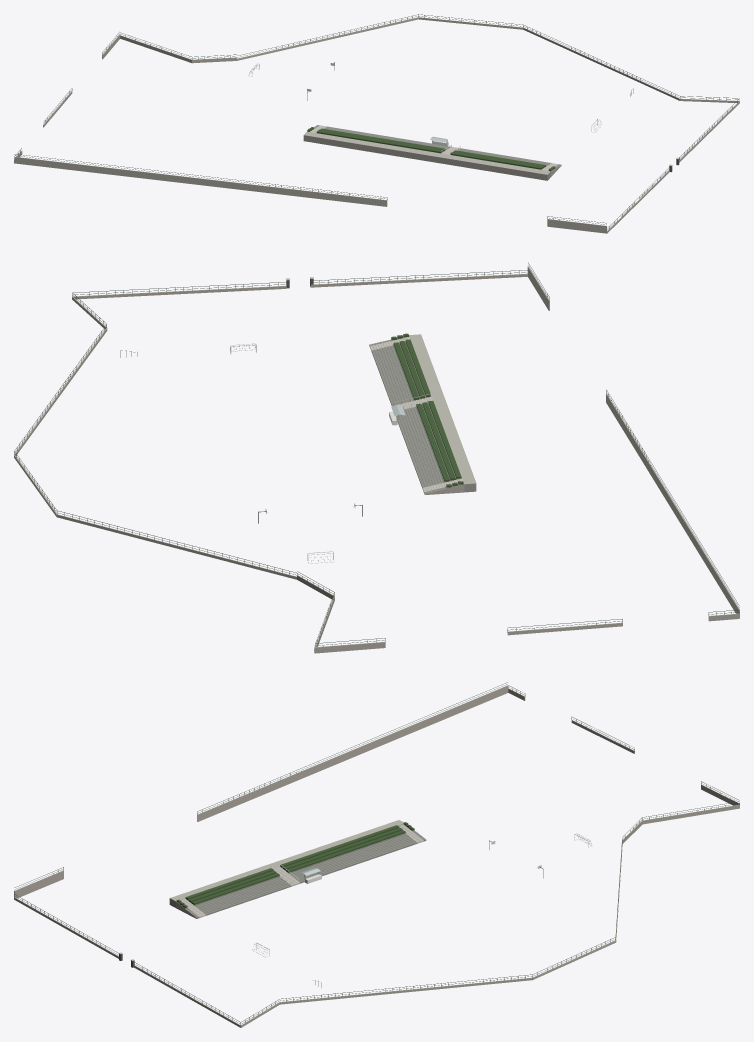
The picture shows the model from 3 angles, top to bottom: view 1: azimuth 30°, elevation 25°; view 2: azimuth 150°, elevation 25°; view 3: azimuth 270°, elevation 25°; orthographic projection. The views are drawn at different scales.
Parts seen in each view (by area): view 1: site-wall-concrete, site-fence, site-stand-apron-retaining, site-stand-hedge, site-stand-upper-terrace, site-stand-concrete; view 2: site-wall-concrete, site-stand-concrete, site-fence, site-stand-hedge, site-stand-upper-terrace; view 3: site-wall-concrete, site-stand-concrete, site-stand-hedge, site-fence, site-stand-upper-terrace, site-stand-walk-tread.
Part boxes in pixels (x1,y1,x2,y2): site-wall-concrete: [14, 17, 739, 233]; site-fence: [14, 14, 739, 229]; site-stand-apron-retaining: [303, 132, 550, 180]; site-stand-hedge: [307, 127, 555, 171]; site-stand-upper-terrace: [304, 131, 550, 174]; site-stand-concrete: [312, 125, 560, 167]; site-wall-concrete: [14, 266, 739, 653]; site-stand-concrete: [369, 336, 458, 493]; site-fence: [14, 262, 739, 650]; site-stand-hedge: [391, 333, 463, 487]; site-stand-upper-terrace: [409, 334, 475, 484]; site-wall-concrete: [14, 685, 739, 1027]; site-stand-concrete: [179, 824, 425, 918]; site-stand-hedge: [176, 822, 414, 907]; site-fence: [14, 682, 739, 1025]; site-stand-upper-terrace: [170, 820, 403, 901]; site-stand-walk-tread: [180, 824, 423, 917].
Bounding box in the file's own units: 274 × 4.56 × 251.
